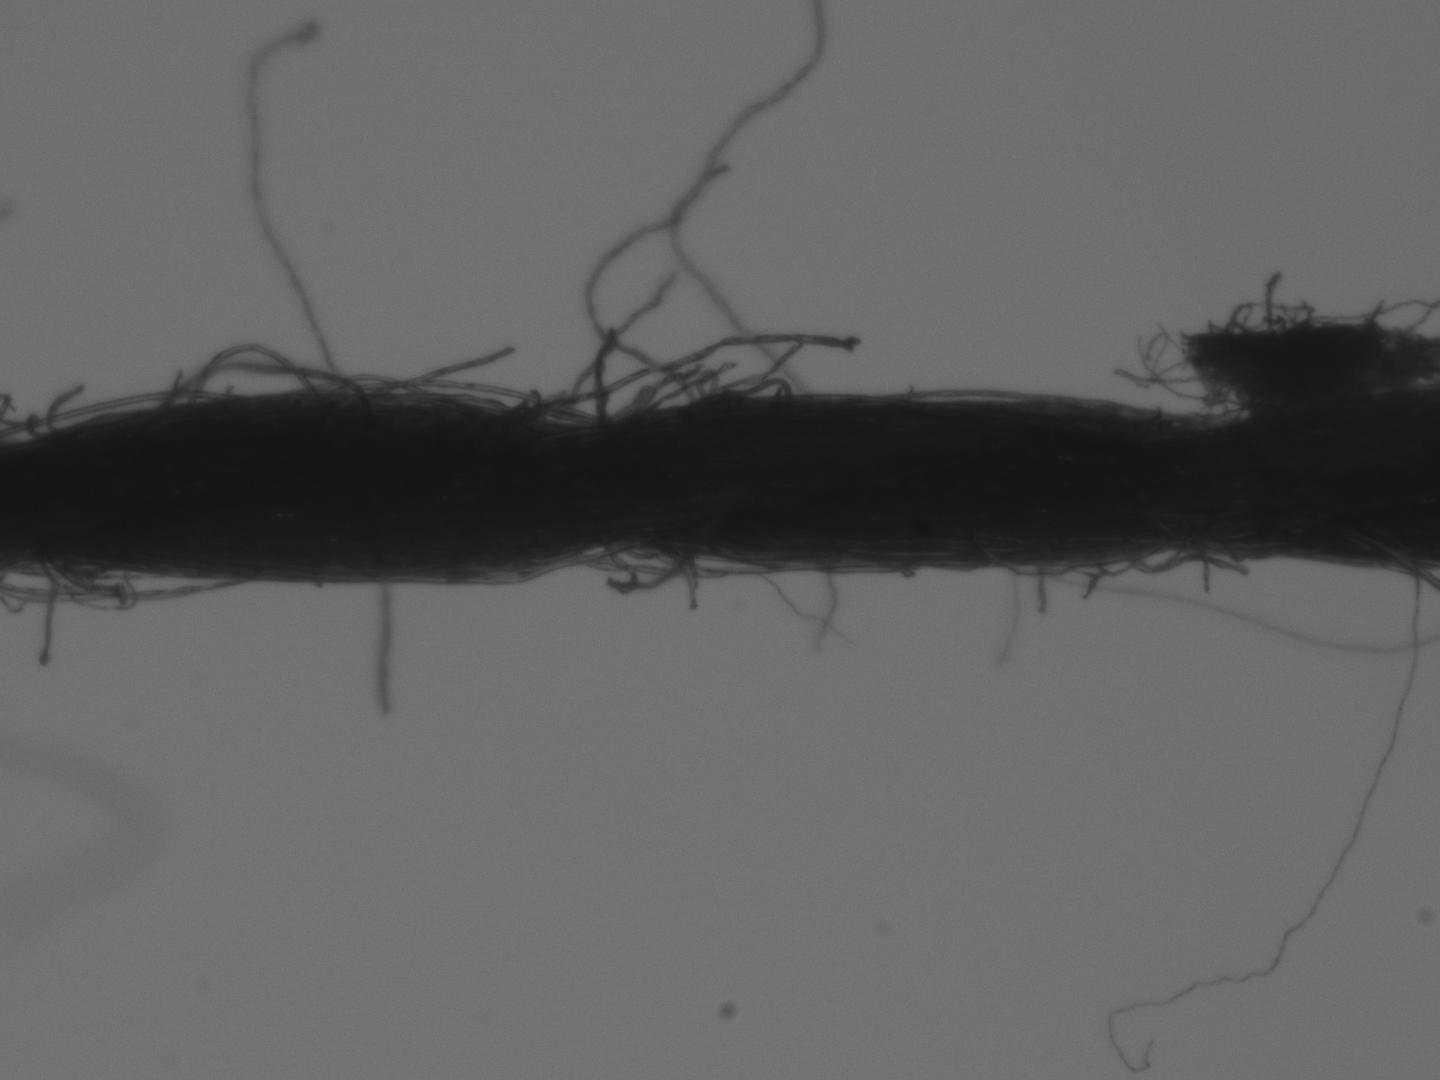loop_fiber: (1110, 269, 1439, 420), (489, 326, 865, 446), (150, 339, 388, 434), (568, 542, 785, 581), (53, 563, 243, 605), (599, 539, 703, 598), (701, 376, 794, 406), (1124, 546, 1196, 577), (998, 558, 1091, 580), (1074, 554, 1132, 579)
protruding_fiber: (371, 577, 396, 715), (592, 328, 619, 428)
